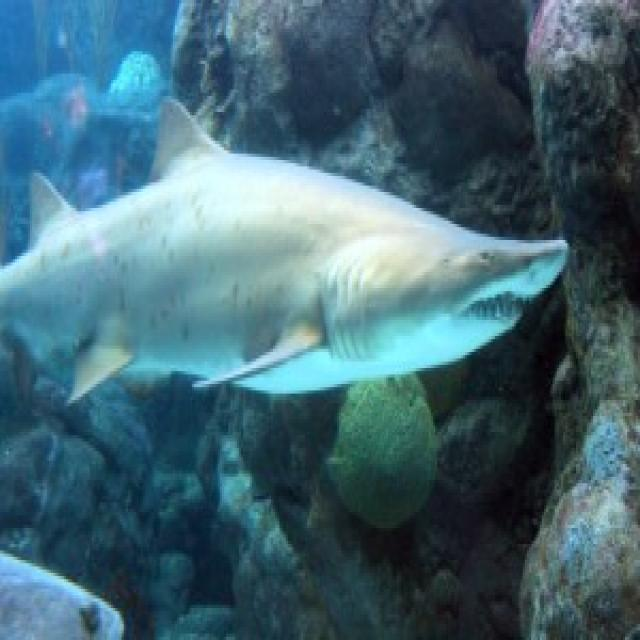Shark: (1, 97, 569, 406)
